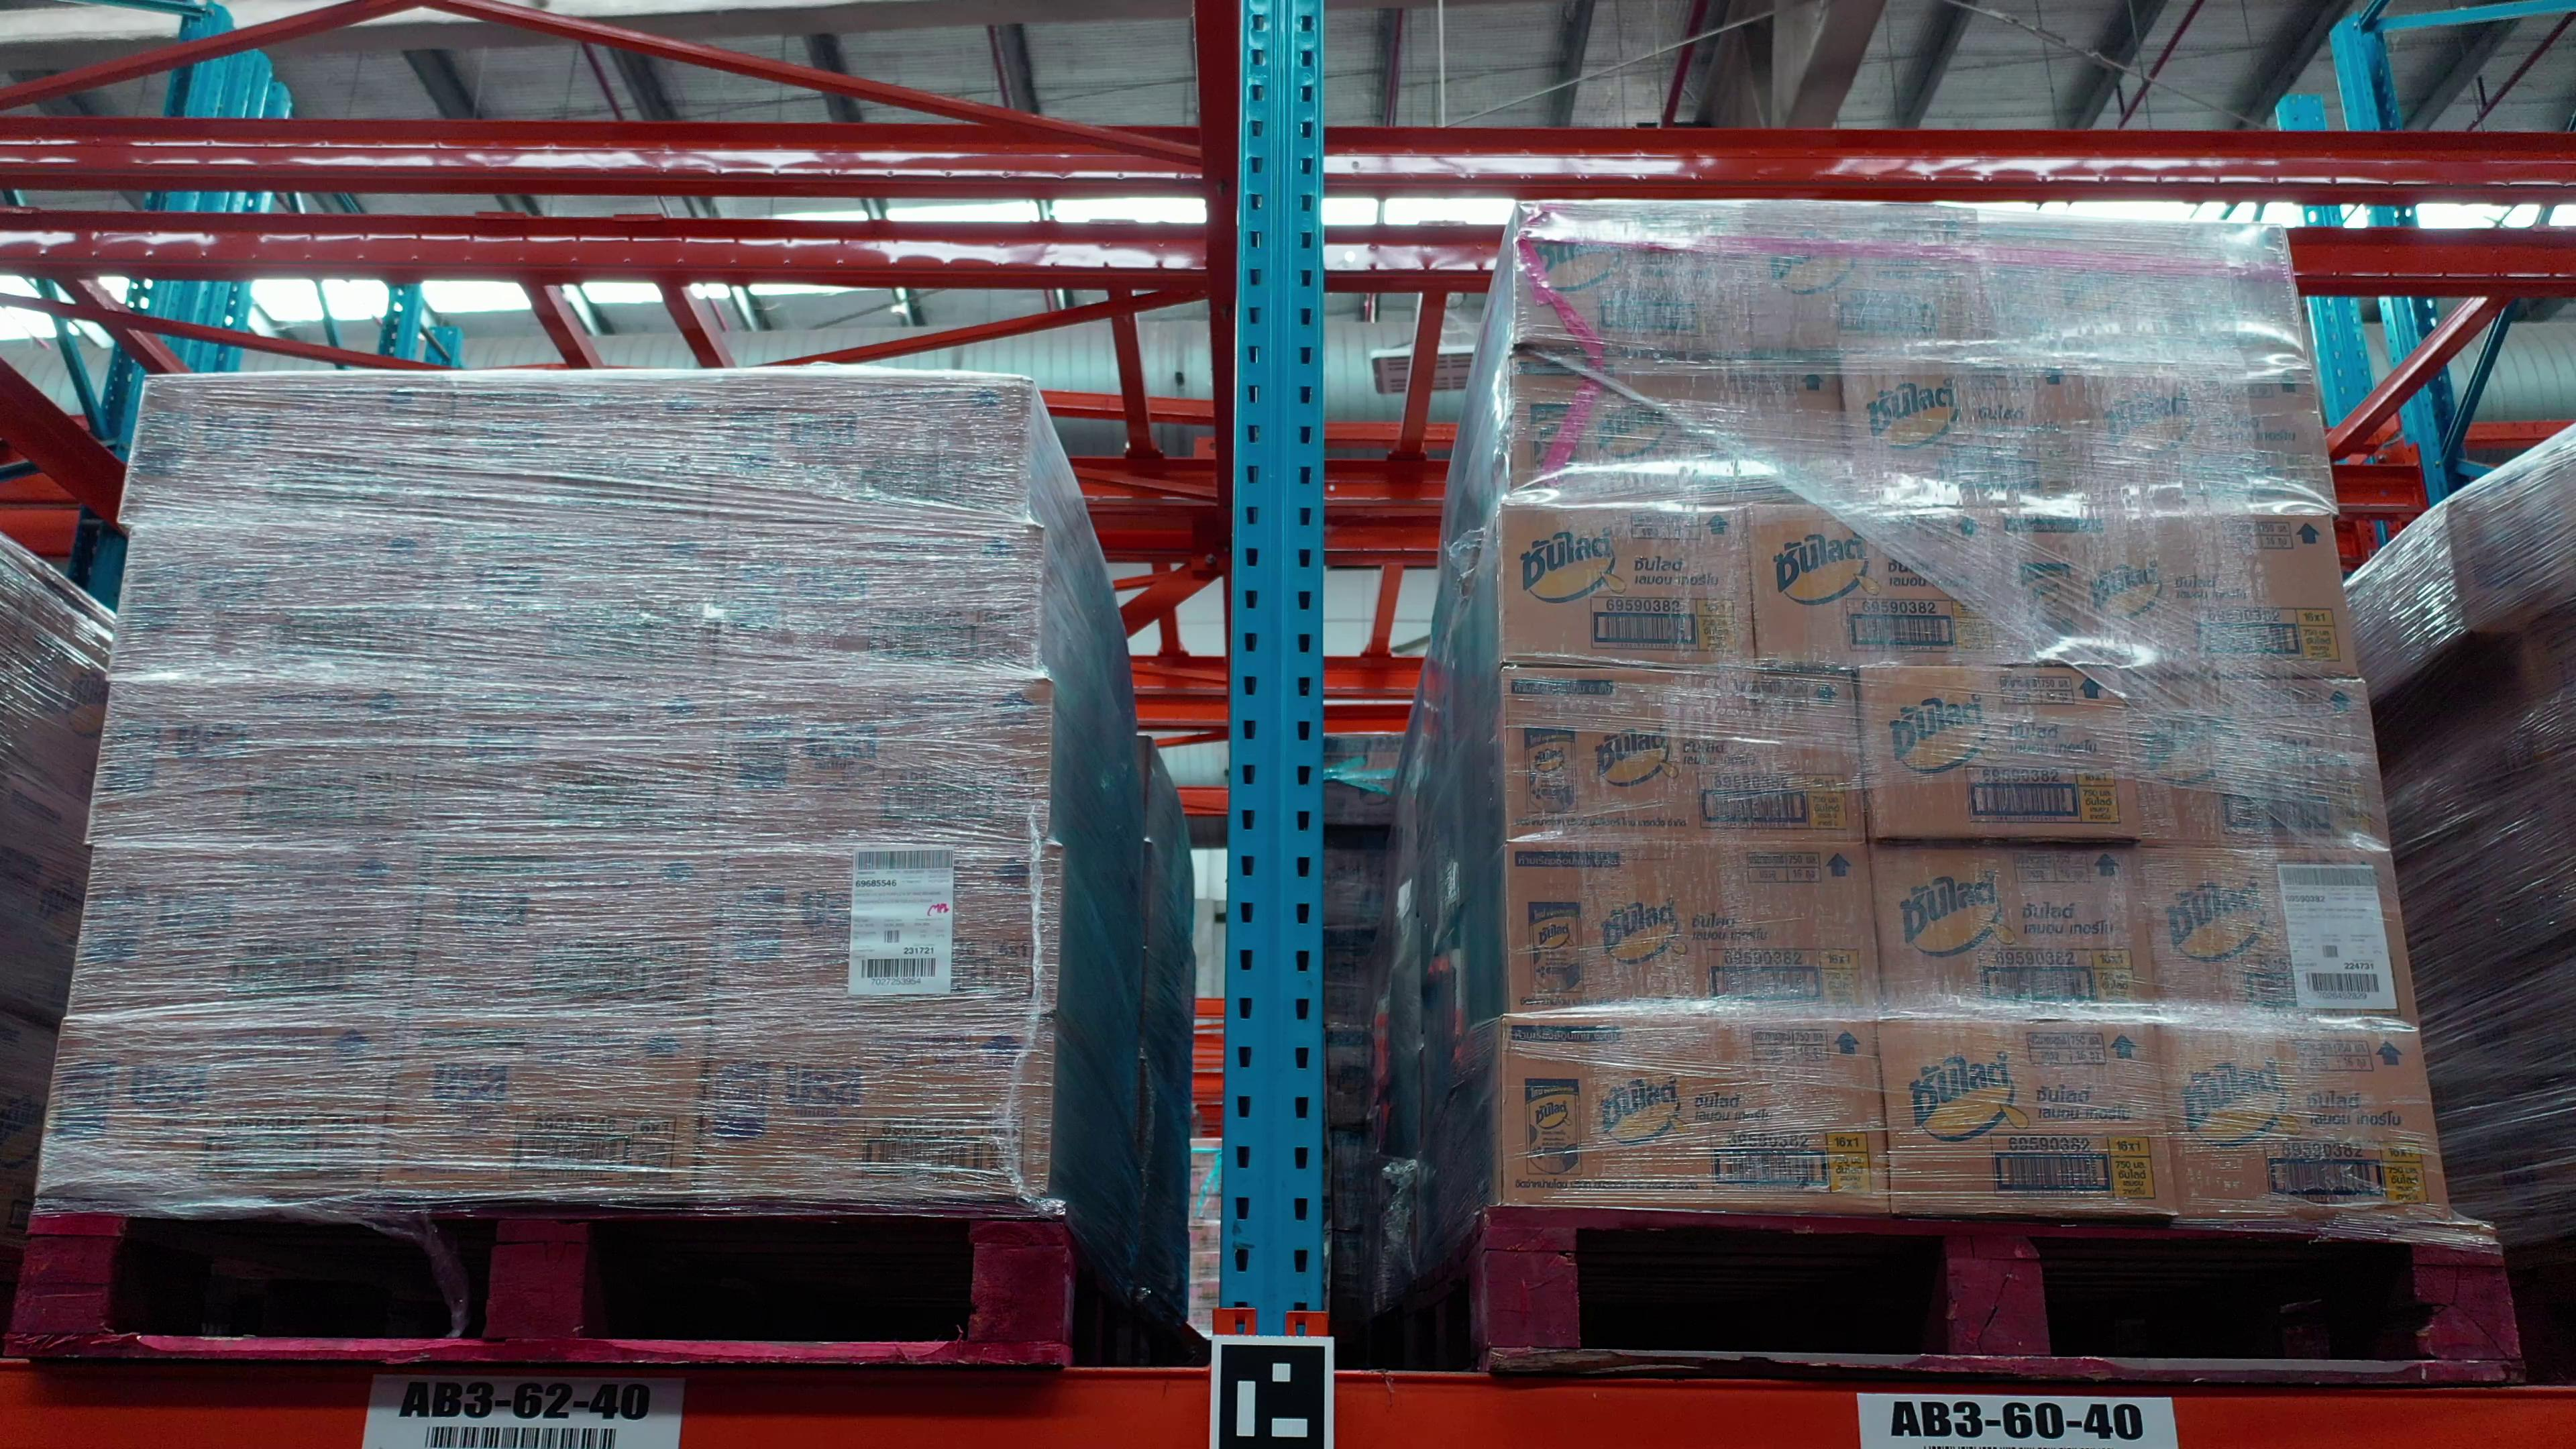-: (1502, 1010, 1895, 1214), (1507, 660, 1872, 846), (1509, 839, 1884, 1017), (695, 1014, 1056, 1196), (65, 840, 426, 1016), (1881, 1010, 2180, 1219), (41, 1017, 405, 1187), (1990, 511, 2358, 679), (379, 1003, 711, 1187), (2160, 1016, 2456, 1221), (713, 842, 1060, 1016), (87, 679, 441, 842), (715, 679, 1053, 847), (1507, 349, 1854, 508), (405, 839, 727, 1008), (119, 370, 456, 531), (706, 372, 1033, 534), (1985, 214, 2314, 373), (110, 525, 451, 678), (425, 676, 727, 847), (1872, 840, 2162, 1017), (1858, 663, 2144, 842), (713, 533, 1047, 681), (2150, 846, 2420, 1028), (439, 370, 725, 536), (2127, 676, 2390, 853), (426, 533, 729, 685), (1500, 501, 1757, 669), (1752, 501, 1997, 669), (1845, 354, 2102, 510), (2084, 363, 2341, 517), (1748, 202, 1997, 356), (1516, 202, 1753, 357)
